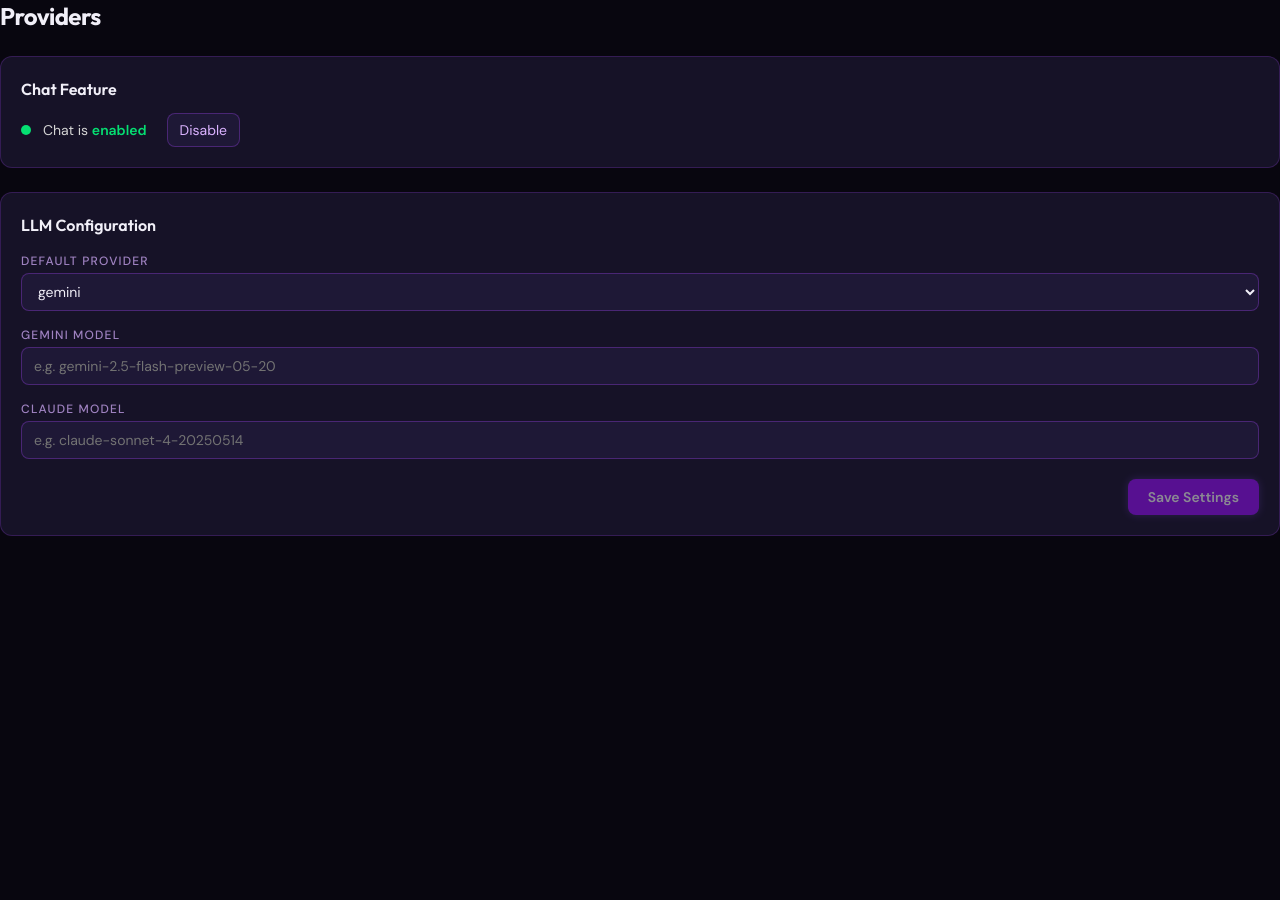
Test: AdminProviders › opens step-up modal when Save Settings is clicked after a change
The width and height of the screenshot is (1280, 900).
// Wait for the form to load and make a change to enable the button
Step 1. Select "claude" in the dropdown labelled "Default Provider" → coordinates (640, 292), box [21,273,1259,311]
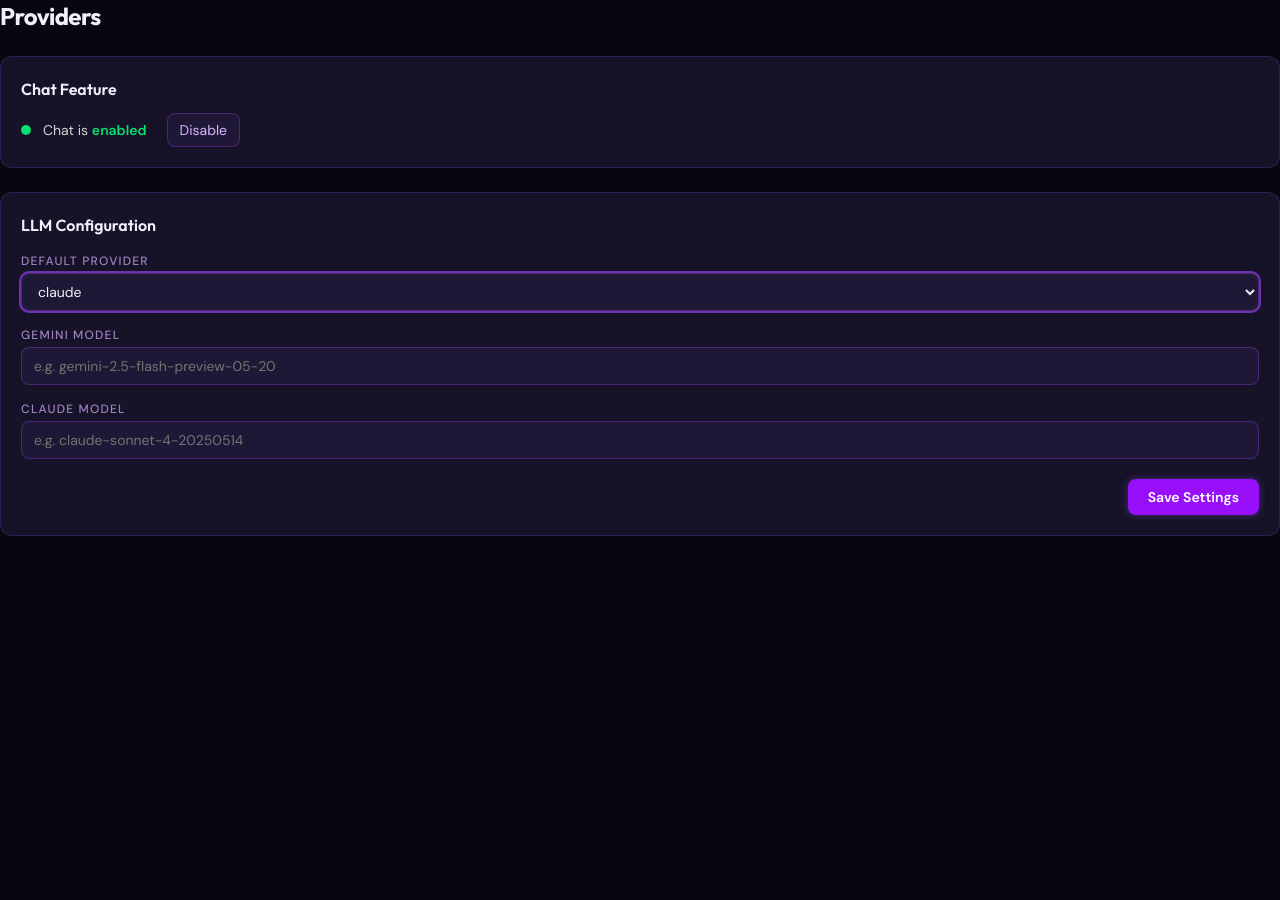
Step 2. Click the button "Save Settings" → coordinates (1193, 497), box [1128,479,1259,515]
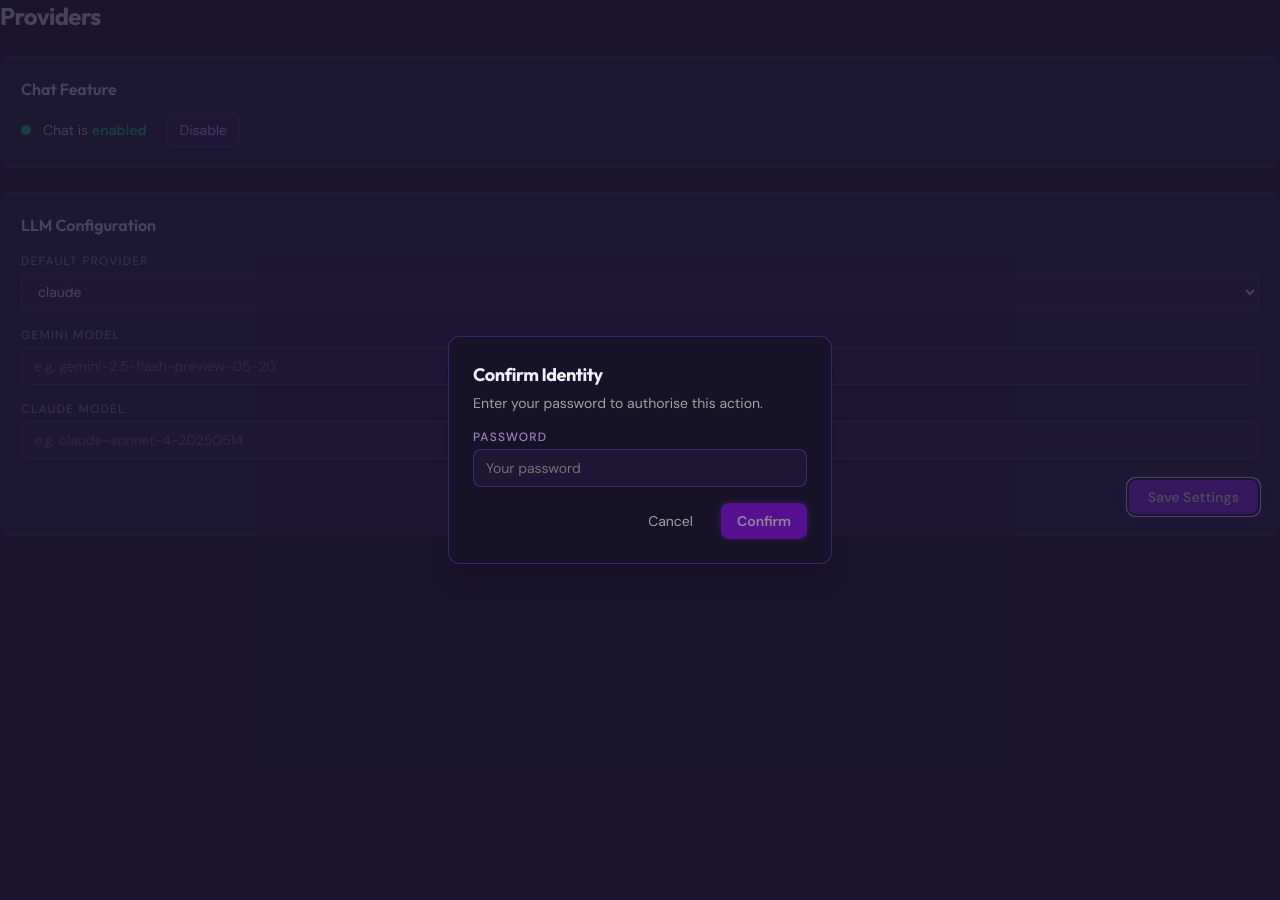
Expected: the dialog is shown
Expected: the heading "Confirm Identity" is shown, [473,363,603,386]
